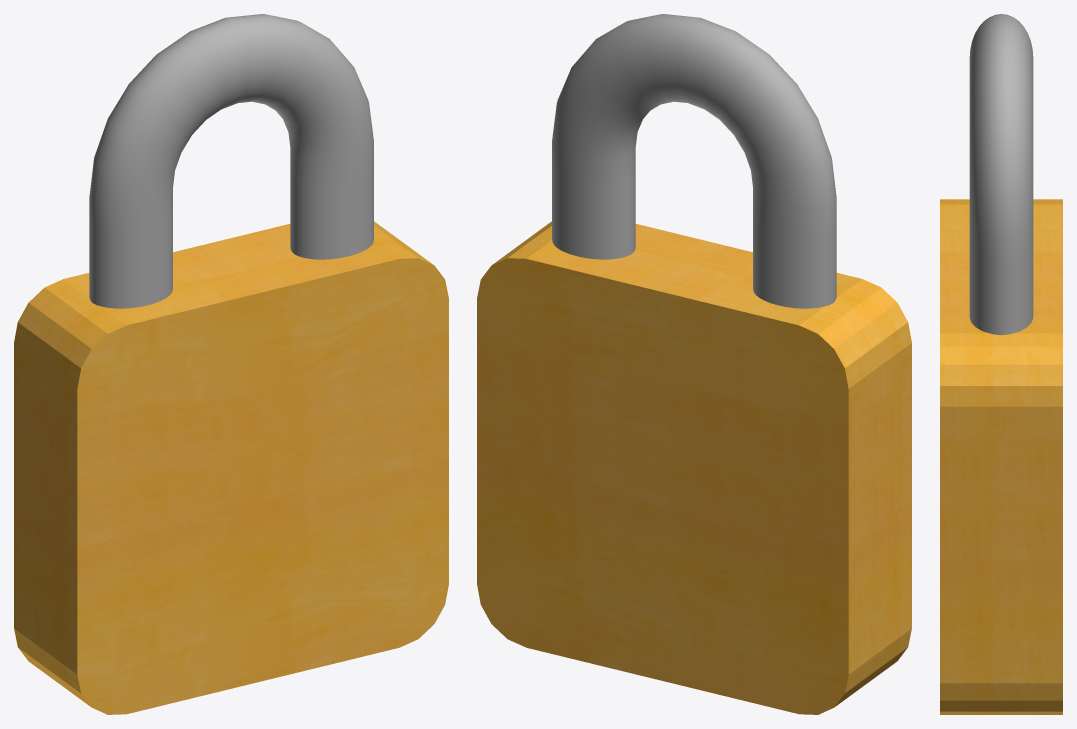
File: lock.fbx
The picture shows the model from 3 angles, left to right: view 1: azimuth 30°, elevation 25°; view 2: azimuth 150°, elevation 25°; view 3: azimuth 270°, elevation 25°; orthographic projection. The views are drawn at different scales.
Visible parts, largest first — view 1: Cube, Circle.001; view 2: Cube, Circle.001; view 3: Cube, Circle.001.
Boxes of the visible parts, left/top/right/bottom form: Cube: left=14, top=221, right=448, bottom=714; Circle.001: left=89, top=14, right=373, bottom=308; Cube: left=477, top=221, right=911, bottom=714; Circle.001: left=552, top=14, right=836, bottom=308; Cube: left=940, top=199, right=1062, bottom=714; Circle.001: left=969, top=14, right=1033, bottom=335.
Bounding box in the file's own units: 200 × 328 × 59.08.
Materials: 2 (2 with a texture image).
